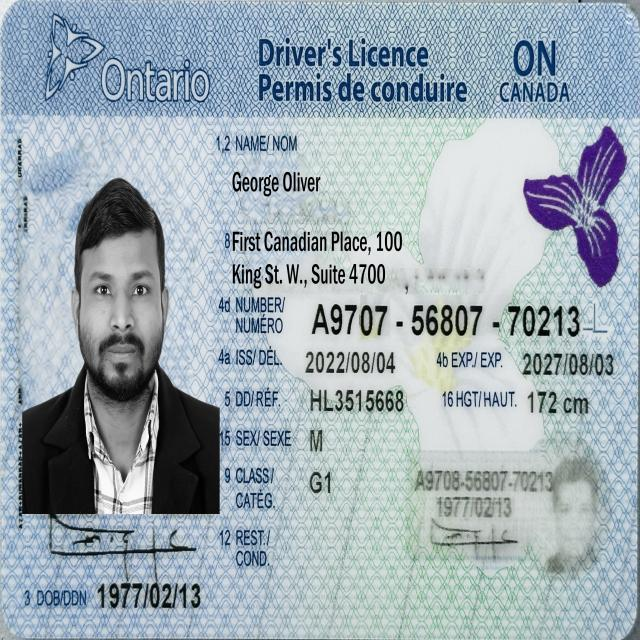Adidas: (5, 7, 640, 639), (16, 124, 218, 526), (229, 254, 489, 290), (234, 222, 421, 254), (232, 169, 331, 208), (358, 298, 391, 344)
